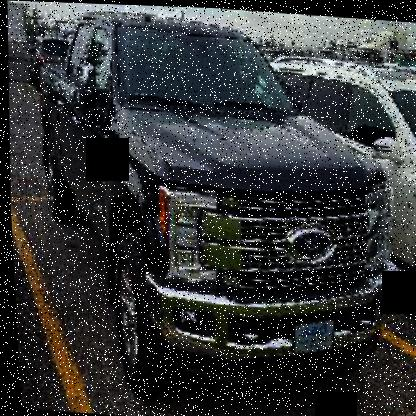not_emergency: (14, 5, 413, 414)
